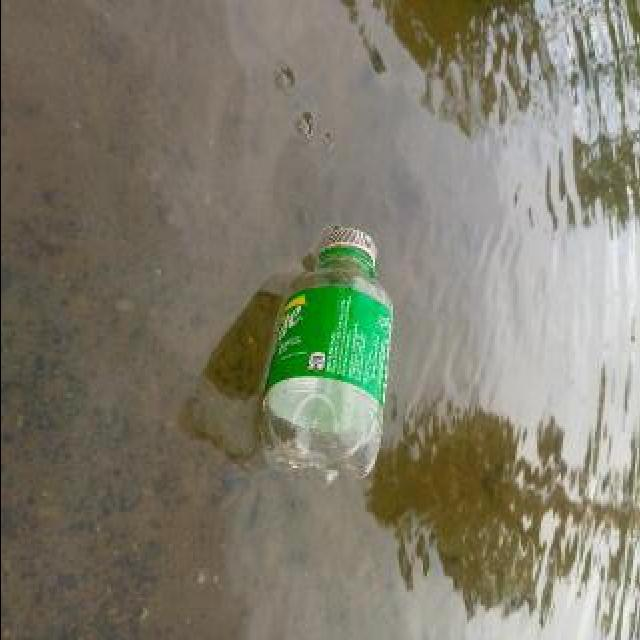Bottle: (252, 222, 402, 488)
